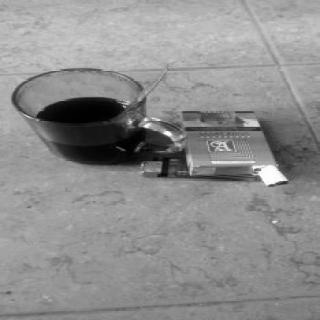objects: (181, 111, 276, 175)
